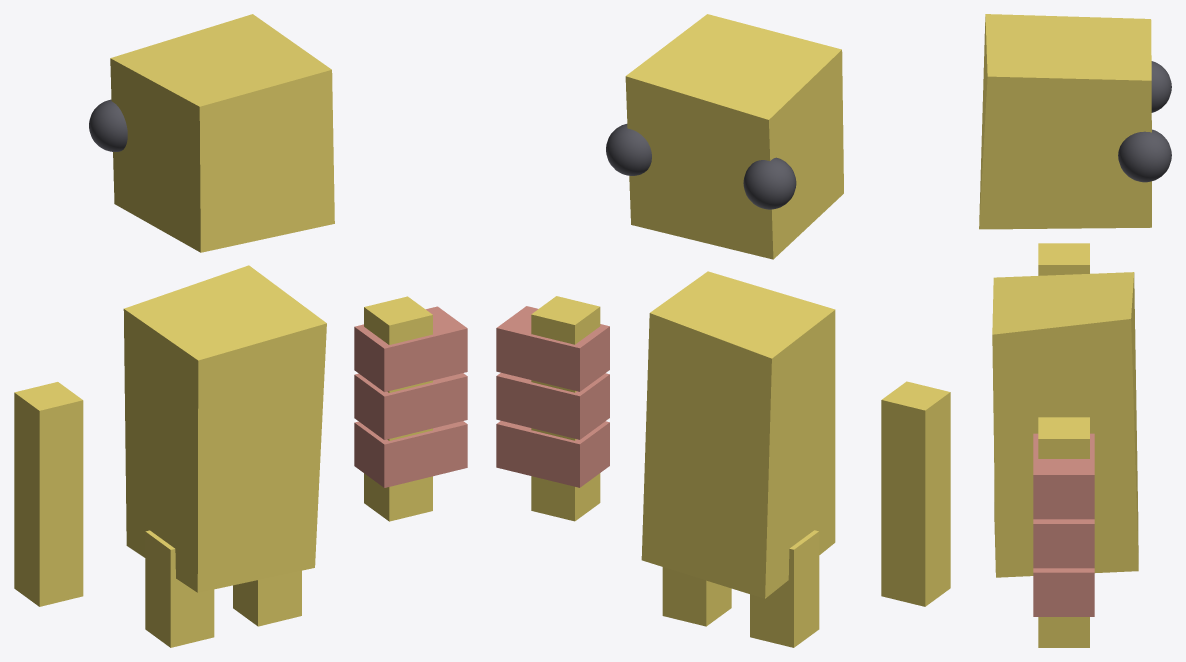
File: clay_blocky_builder_bricks.glb
3 views of the same model, side by side, from view 1: azimuth 30°, elevation 25°; view 2: azimuth 150°, elevation 25°; view 3: azimuth 270°, elevation 25° (orthographic).
Visible parts, largest first — view 1: brick.002; view 2: brick.002; view 3: brick.002.
Boxes of the visible parts, x1,y1,x2,y2 form: brick.002: [14, 14, 467, 647]; brick.002: [496, 14, 950, 647]; brick.002: [979, 14, 1171, 647].
Bounding box in the file's own units: 2.05 × 2.58 × 0.787.
